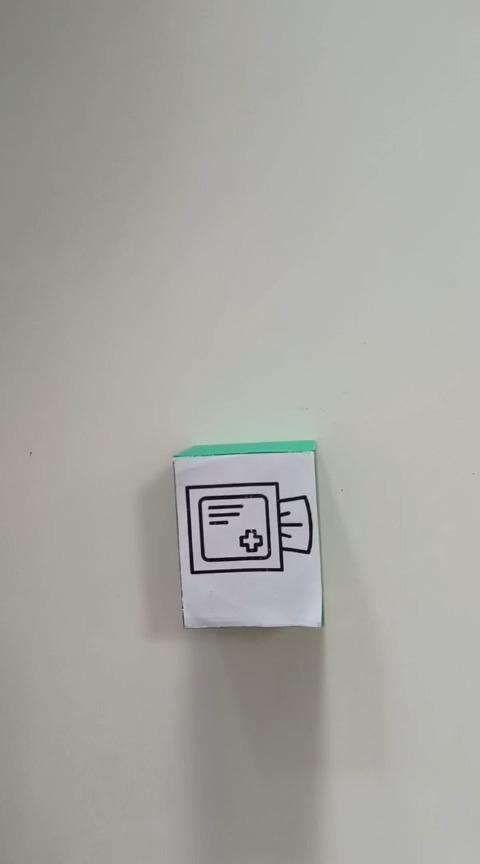Gauze: (170, 439, 324, 629)
